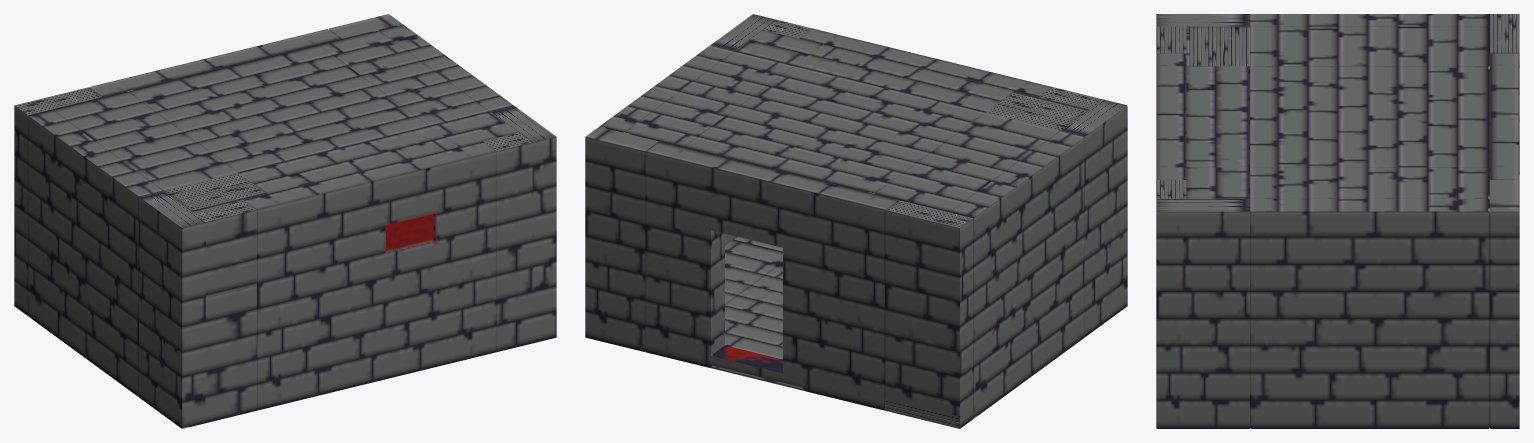
Rendered from roomlarge2.fbx.
3 views of the same model, side by side, from view 1: azimuth 30°, elevation 25°; view 2: azimuth 150°, elevation 25°; view 3: azimuth 270°, elevation 25° (orthographic). The views are drawn at different scales.
Visible parts, largest first — view 1: cuboid_4, cuboid_1, cuboid_3, cuboid_2, cuboid_5; view 2: cuboid_5, cuboid_1, cuboid_3, cuboid, cuboid_4, cuboid_2; view 3: cuboid_2, cuboid_1, cuboid_5, cuboid_4, cuboid_3.
Boxes of the visible parts, x1,y1,x2,y2 form: cuboid_4: (192, 132, 532, 422); cuboid_1: (52, 30, 518, 212); cuboid_3: (28, 110, 205, 428); cuboid_2: (379, 24, 556, 343); cuboid_5: (14, 14, 402, 315); cuboid_5: (585, 126, 973, 428); cuboid_1: (623, 30, 1089, 212); cuboid_3: (950, 99, 1127, 418); cuboid: (725, 237, 782, 359); cuboid_4: (763, 20, 1103, 110); cuboid_2: (599, 14, 776, 245); cuboid_2: (1156, 199, 1489, 428); cuboid_1: (1186, 26, 1489, 212); cuboid_5: (1489, 14, 1519, 428); cuboid_4: (1156, 26, 1186, 212); cuboid_3: (1156, 14, 1489, 40).
Size of the model in its own units: 781 by 400 by 606.
Materials: 1 (1 with a texture image).
